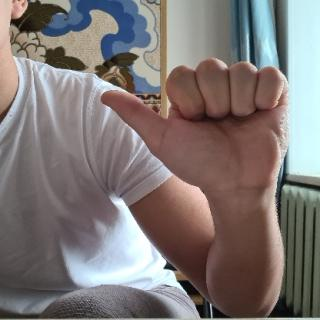DAD: (95, 54, 297, 208)
